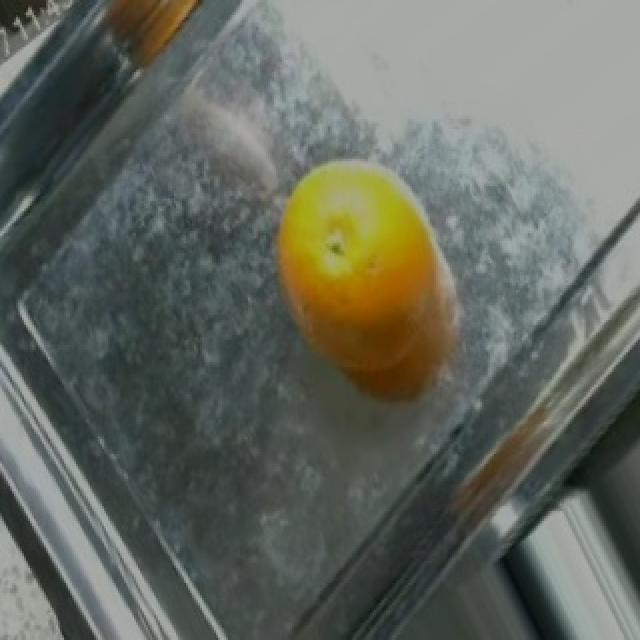Fruit: (248, 141, 490, 422)
